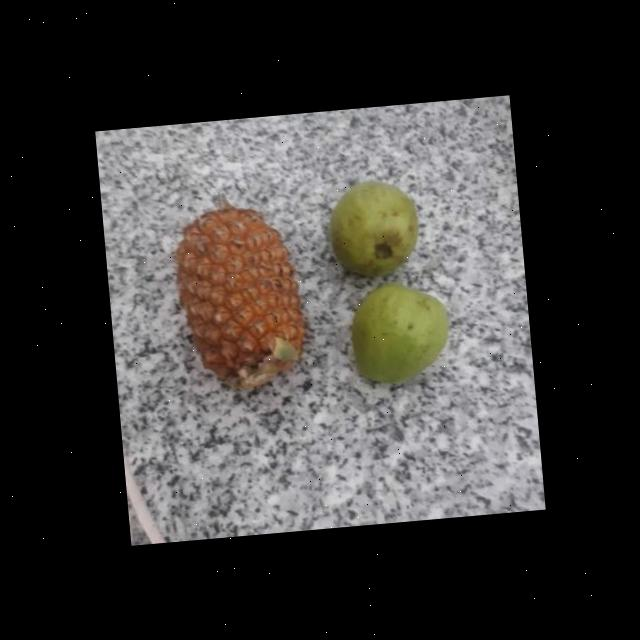guava: (346, 280, 458, 387), (326, 178, 427, 281)
pineapple: (169, 196, 315, 394)
